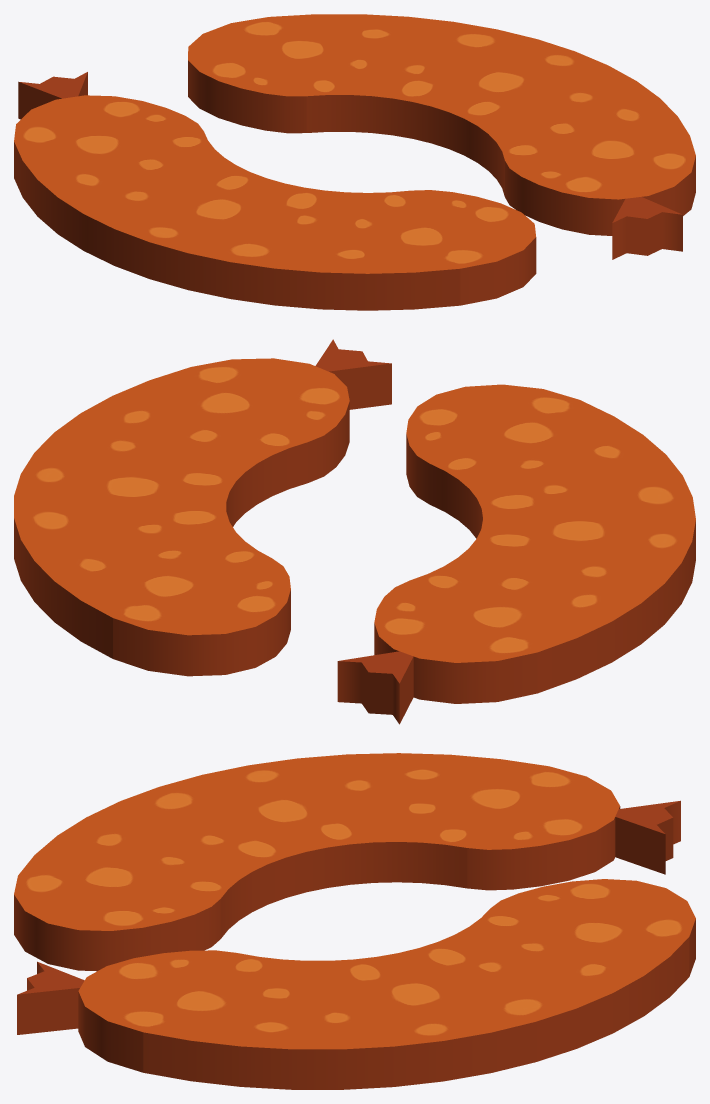
Rendered from Sausage_Slice.glb.
3 renders of one model, top to bottom at view 1: azimuth 30°, elevation 25°; view 2: azimuth 150°, elevation 25°; view 3: azimuth 270°, elevation 25°, orthographic. The views are drawn at different scales.
Parts seen in each view (by area): view 1: Sausage_Slice; view 2: Sausage_Slice; view 3: Sausage_Slice.
Part boxes in pixels (box(x1,y1,x2,y2)): Sausage_Slice: box(14, 14, 695, 310); Sausage_Slice: box(14, 339, 695, 724); Sausage_Slice: box(14, 753, 695, 1089).
Size of the model in its own units: 15.69 by 1 by 15.27.
Materials: 1 (1 with a texture image).
